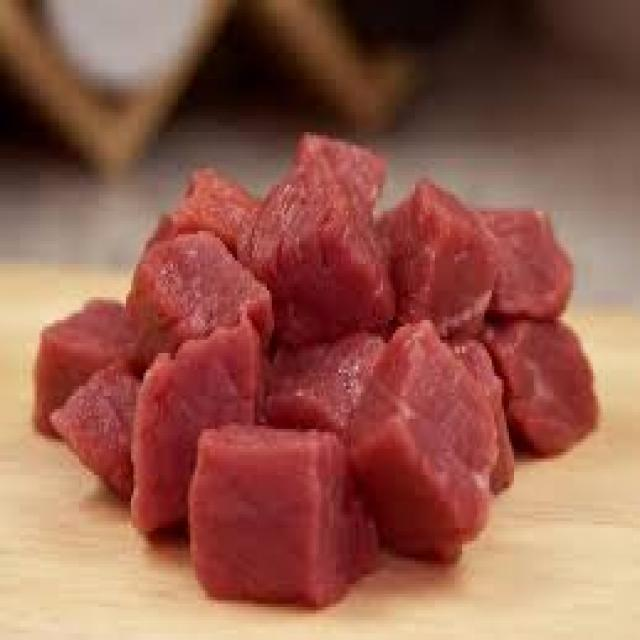Organik: (30, 135, 603, 612)
